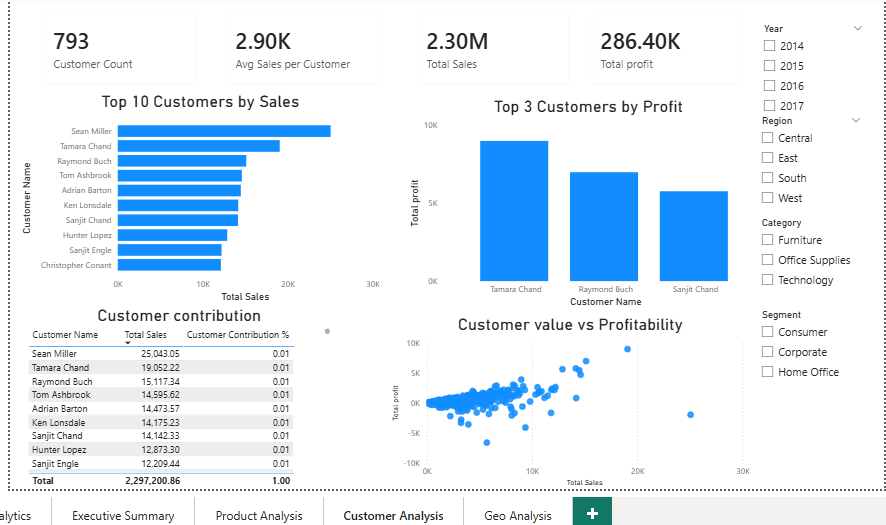

The page's visual inventory and layout, read from the dashboard file:
{"tool":"powerbi","page":{"name":"Customer Analysis","canvas":[1280,720],"ordinal":3},"visuals":[{"type":"cardVisual","title":"Monthly Sales Trend","fields":{"Data":["Calendar.Customer Count"]},"box":[33.6,2.1,255.3,144.5],"z":0},{"type":"cardVisual","title":"Monthly Sales Trend","fields":{"Data":["Calendar.Avg Sales per Customer"]},"box":[300.7,2.1,255.3,144.5],"z":1000},{"type":"cardVisual","title":"Monthly Sales Trend","fields":{"Data":["powerBiNew.Total Sales"]},"box":[579.5,2.1,255.3,144.5],"z":2000},{"type":"cardVisual","title":"Monthly Sales Trend","fields":{"Data":["powerBiNew.Total profit"]},"box":[834.9,2.1,255.3,144.5],"z":3000},{"type":"barChart","title":"Top 10 Customers by Sales","fields":{"Y":["powerBiNew.Total Sales"],"Category":["powerBiNew.Customer Name"]},"box":[11.8,139.4,534.2,312.4],"z":4000},{"type":"clusteredColumnChart","title":"Top 3 Customers by Profit","fields":{"Category":["powerBiNew.Customer Name"],"Y":["powerBiNew.Total profit"]},"box":[579.5,146.1,534.2,312.4],"z":5000},{"type":"tableEx","title":"Customer contribution","fields":{"Values":["powerBiNew.Customer Name","powerBiNew.Total Sales","Calendar.Customer Contribution %"]},"box":[21.8,451.9,451.9,268.8],"z":6000},{"type":"scatterChart","title":"Customer value vs Profitability","fields":{"Y":["powerBiNew.Total profit"],"X":["powerBiNew.Total Sales"],"Category":["powerBiNew.Customer Name"]},"box":[552.7,464.7,534.2,255.3],"z":7000},{"type":"slicer","fields":{"Values":["Calendar.Year"]},"box":[1090.2,33.6,169.7,268.8],"z":8000},{"type":"slicer","fields":{"Values":["powerBiNew.Region"]},"box":[1087.3,168.3,169.8,267.8],"z":9000},{"type":"slicer","fields":{"Values":["powerBiNew.Category"]},"box":[1087.3,317.6,169.8,267.8],"z":9001},{"type":"slicer","fields":{"Values":["powerBiNew.Segment"]},"box":[1087.3,452.2,169.8,267.8],"z":9002}]}

Visuals, with their boxes on the page's 1280x720 design canvas (x1, y1, x2, y2). These are canvas units, not pixel positions in the 886x525 screenshot, which may show the page scaled, cropped or inside an application window:
"Monthly Sales Trend" cardVisual: [left=34, top=2, right=289, bottom=147]
"Monthly Sales Trend" cardVisual: [left=301, top=2, right=556, bottom=147]
"Monthly Sales Trend" cardVisual: [left=580, top=2, right=835, bottom=147]
"Monthly Sales Trend" cardVisual: [left=835, top=2, right=1090, bottom=147]
"Top 10 Customers by Sales" barChart: [left=12, top=139, right=546, bottom=452]
"Top 3 Customers by Profit" clusteredColumnChart: [left=580, top=146, right=1114, bottom=458]
"Customer contribution" tableEx: [left=22, top=452, right=474, bottom=721]
"Customer value vs Profitability" scatterChart: [left=553, top=465, right=1087, bottom=720]
slicer - Calendar.Year: [left=1090, top=34, right=1260, bottom=302]
slicer - powerBiNew.Region: [left=1087, top=168, right=1257, bottom=436]
slicer - powerBiNew.Category: [left=1087, top=318, right=1257, bottom=585]
slicer - powerBiNew.Segment: [left=1087, top=452, right=1257, bottom=720]
